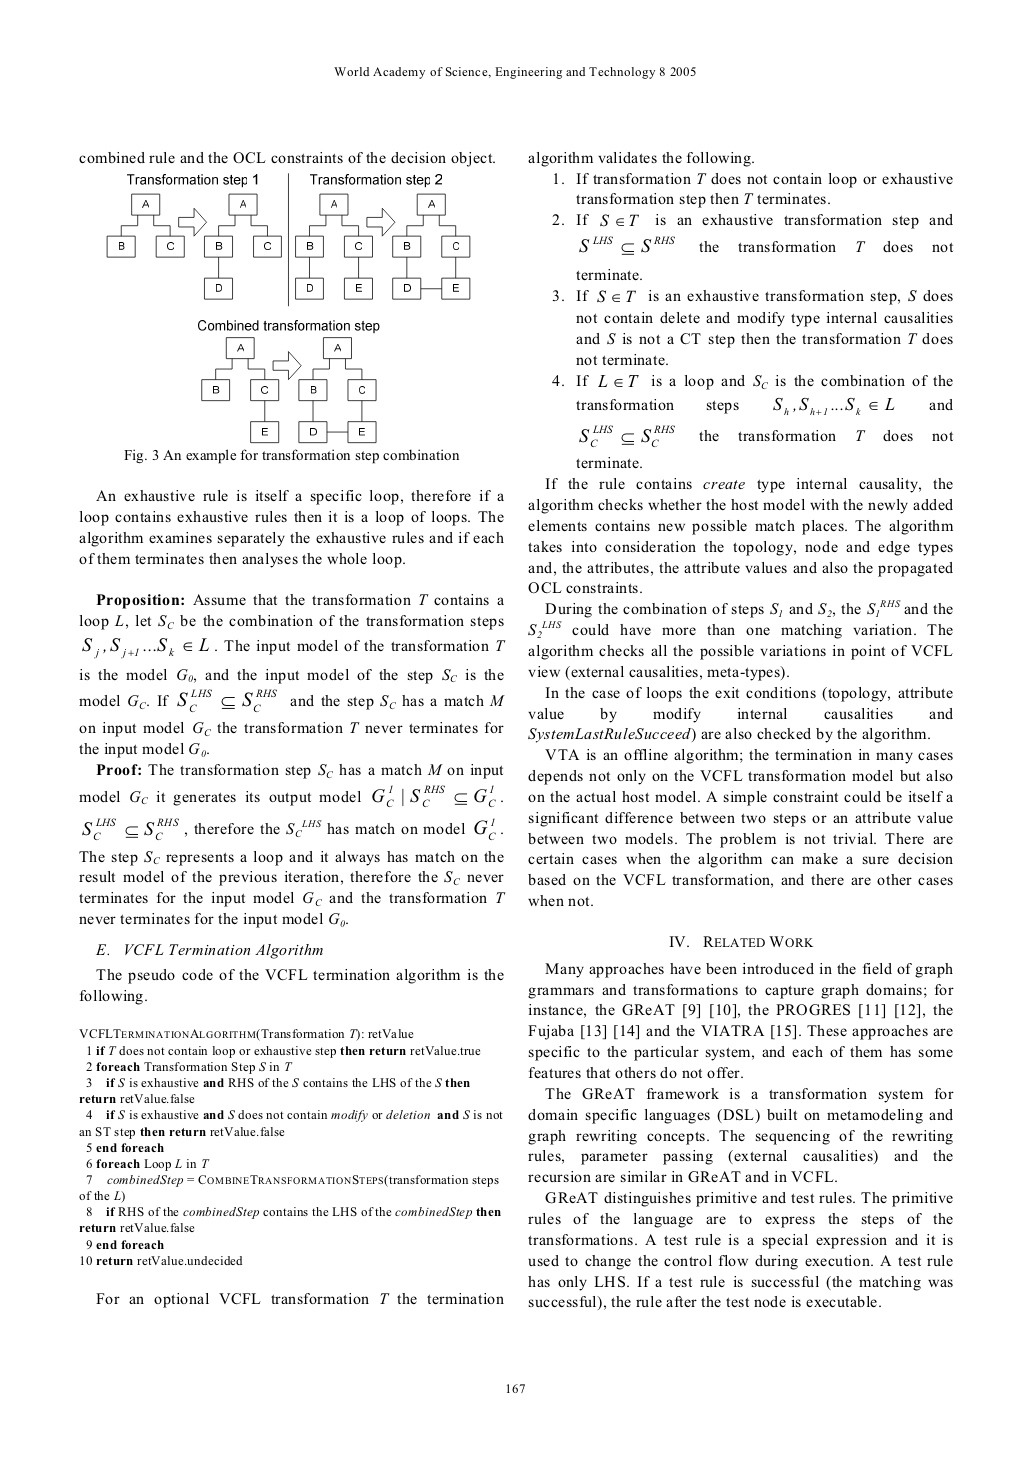figure: (106, 172, 470, 307), (197, 318, 379, 444)
